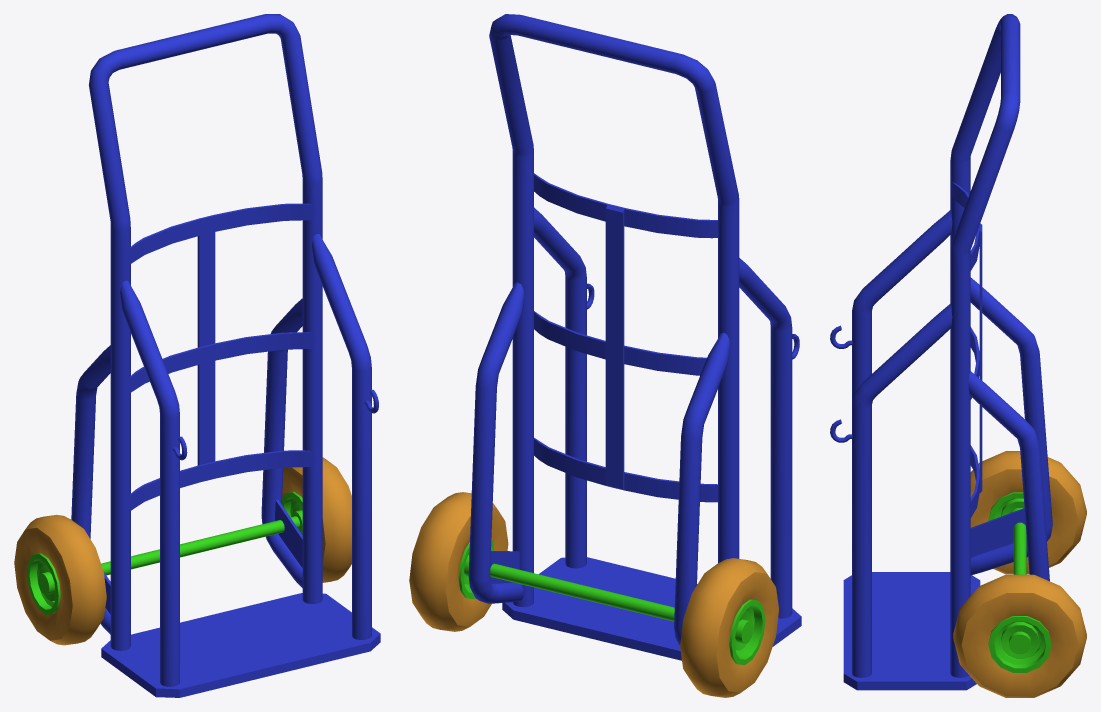
Rendered from cart.fbx.
3 renders of one model, left to right at view 1: azimuth 30°, elevation 25°; view 2: azimuth 150°, elevation 25°; view 3: azimuth 270°, elevation 25°, orthographic. The views are drawn at different scales.
Parts seen in each view (by area): view 1: Cart; view 2: Cart; view 3: Cart.
Boxes of the visible parts, x1,y1,x2,y2 form: Cart: [14, 14, 380, 697]; Cart: [409, 14, 801, 697]; Cart: [830, 14, 1086, 697].
Bounding box in the file's own units: 333 × 635 × 254.
